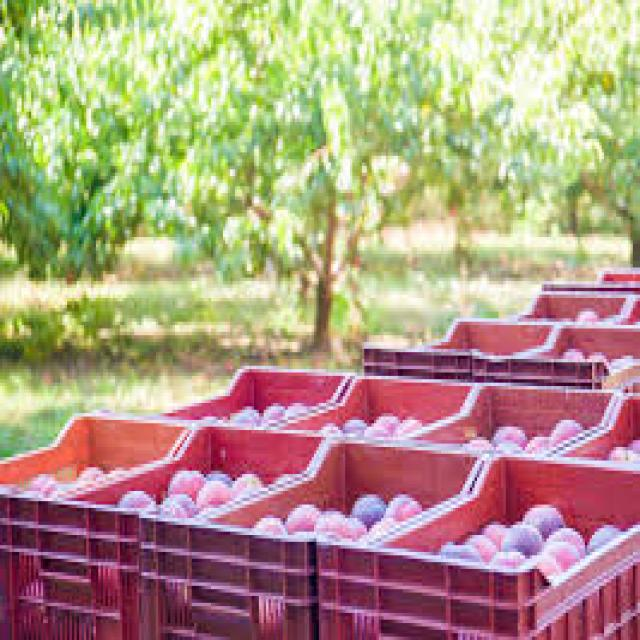basket: (364, 271, 640, 391)
